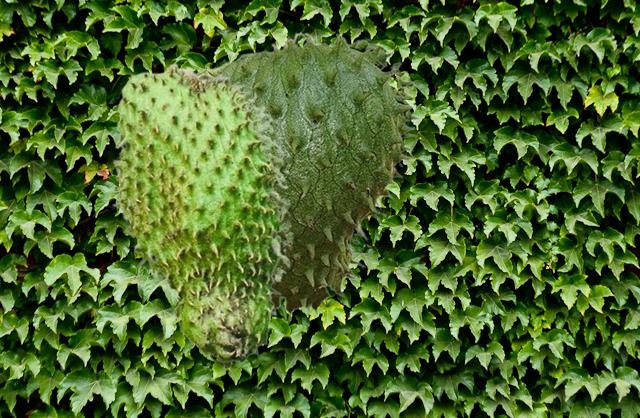guyabano: (197, 31, 420, 321), (110, 62, 293, 369)
